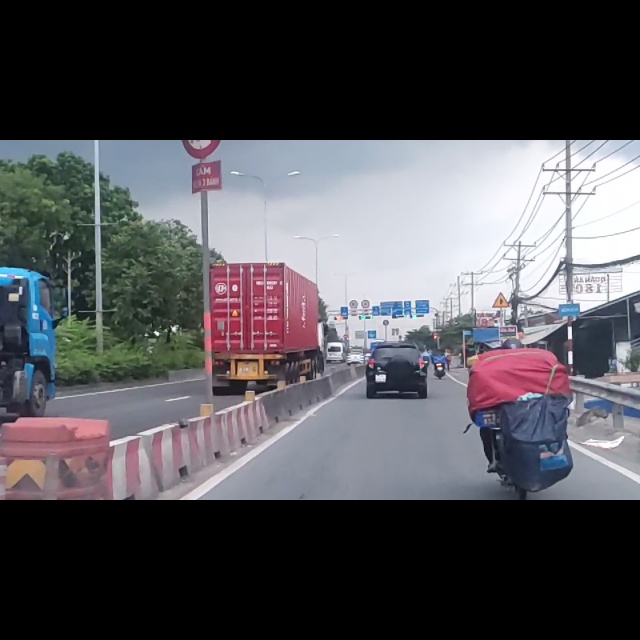bien_cam: (491, 269, 510, 299)
